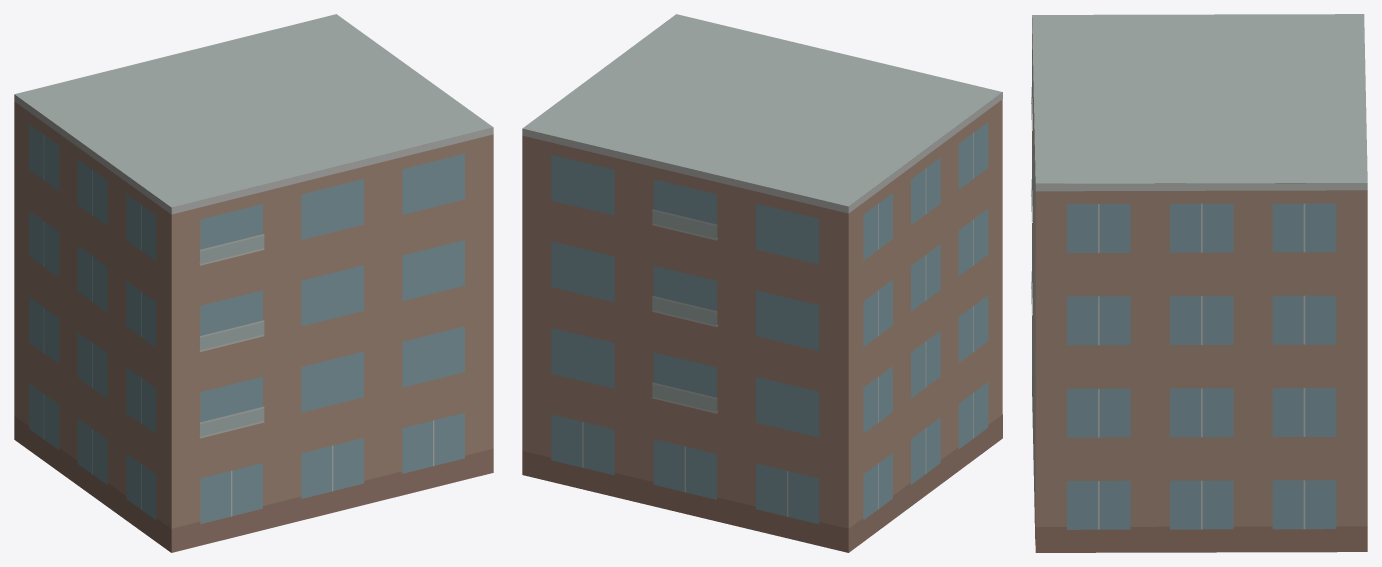
Rendered from survey-upis-32532714.glb.
3 views of the same model, side by side, from view 1: azimuth 30°, elevation 25°; view 2: azimuth 150°, elevation 25°; view 3: azimuth 270°, elevation 25° (orthographic). The views are drawn at different scales.
Visible parts, largest first — view 1: survey-upis-32532714.tmp; view 2: survey-upis-32532714.tmp; view 3: survey-upis-32532714.tmp.
Part boxes in pixels (x1=…): survey-upis-32532714.tmp: x1=14, y1=14, x2=493, y2=552; survey-upis-32532714.tmp: x1=522, y1=14, x2=1002, y2=552; survey-upis-32532714.tmp: x1=1031, y1=14, x2=1367, y2=552.
Size of the model in its own units: 11.84 by 11.99 by 9.92.
